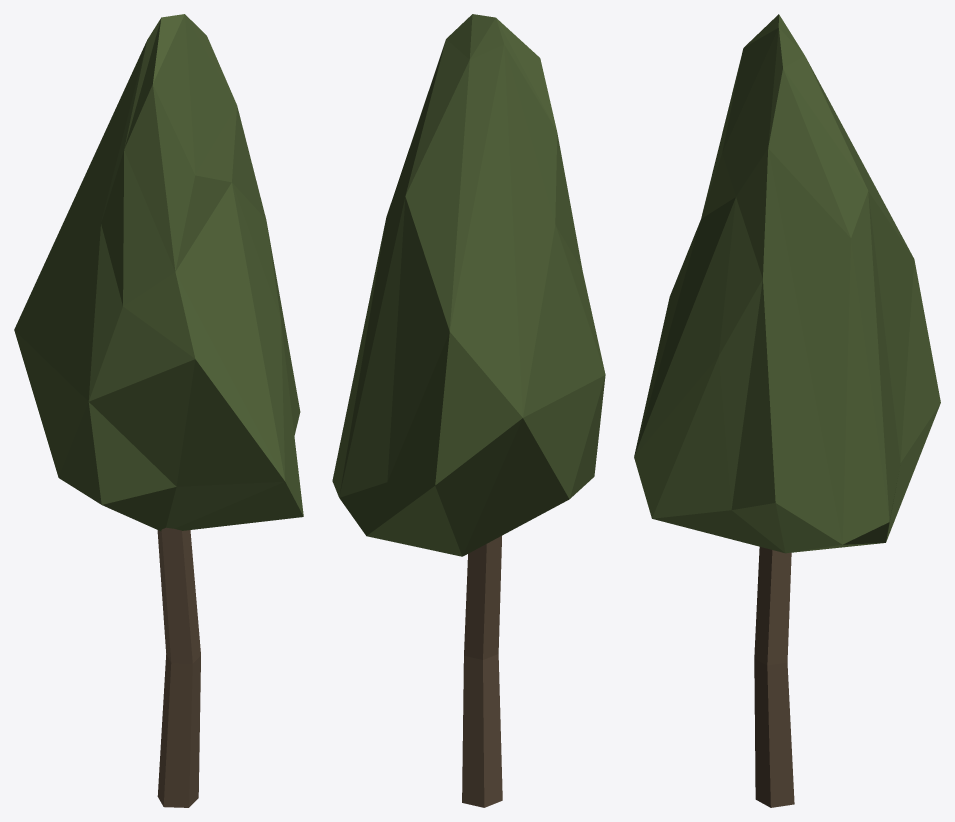
Rendered from tree_17.fbx.
The picture shows the model from 3 angles, left to right: view 1: azimuth 30°, elevation 25°; view 2: azimuth 150°, elevation 25°; view 3: azimuth 270°, elevation 25°; orthographic projection.
Visible parts, largest first — view 1: tree_017; view 2: tree_017; view 3: tree_017.
Boxes of the visible parts, box(x1,y1,x2,y2) form: tree_017: box(14, 14, 303, 807); tree_017: box(332, 14, 605, 807); tree_017: box(634, 14, 940, 807).
Size of the model in its own units: 0.4816 by 1.58 by 0.5659.
Materials: 1 (1 with a texture image).
